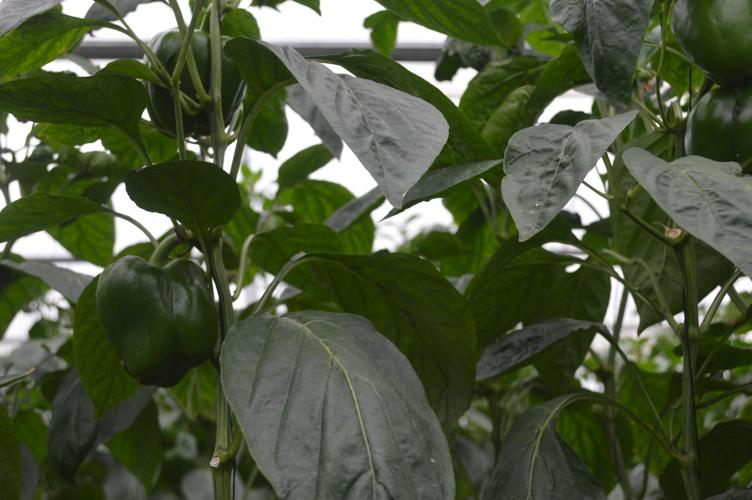BellPepper: (93, 263, 219, 387), (141, 29, 243, 136)
